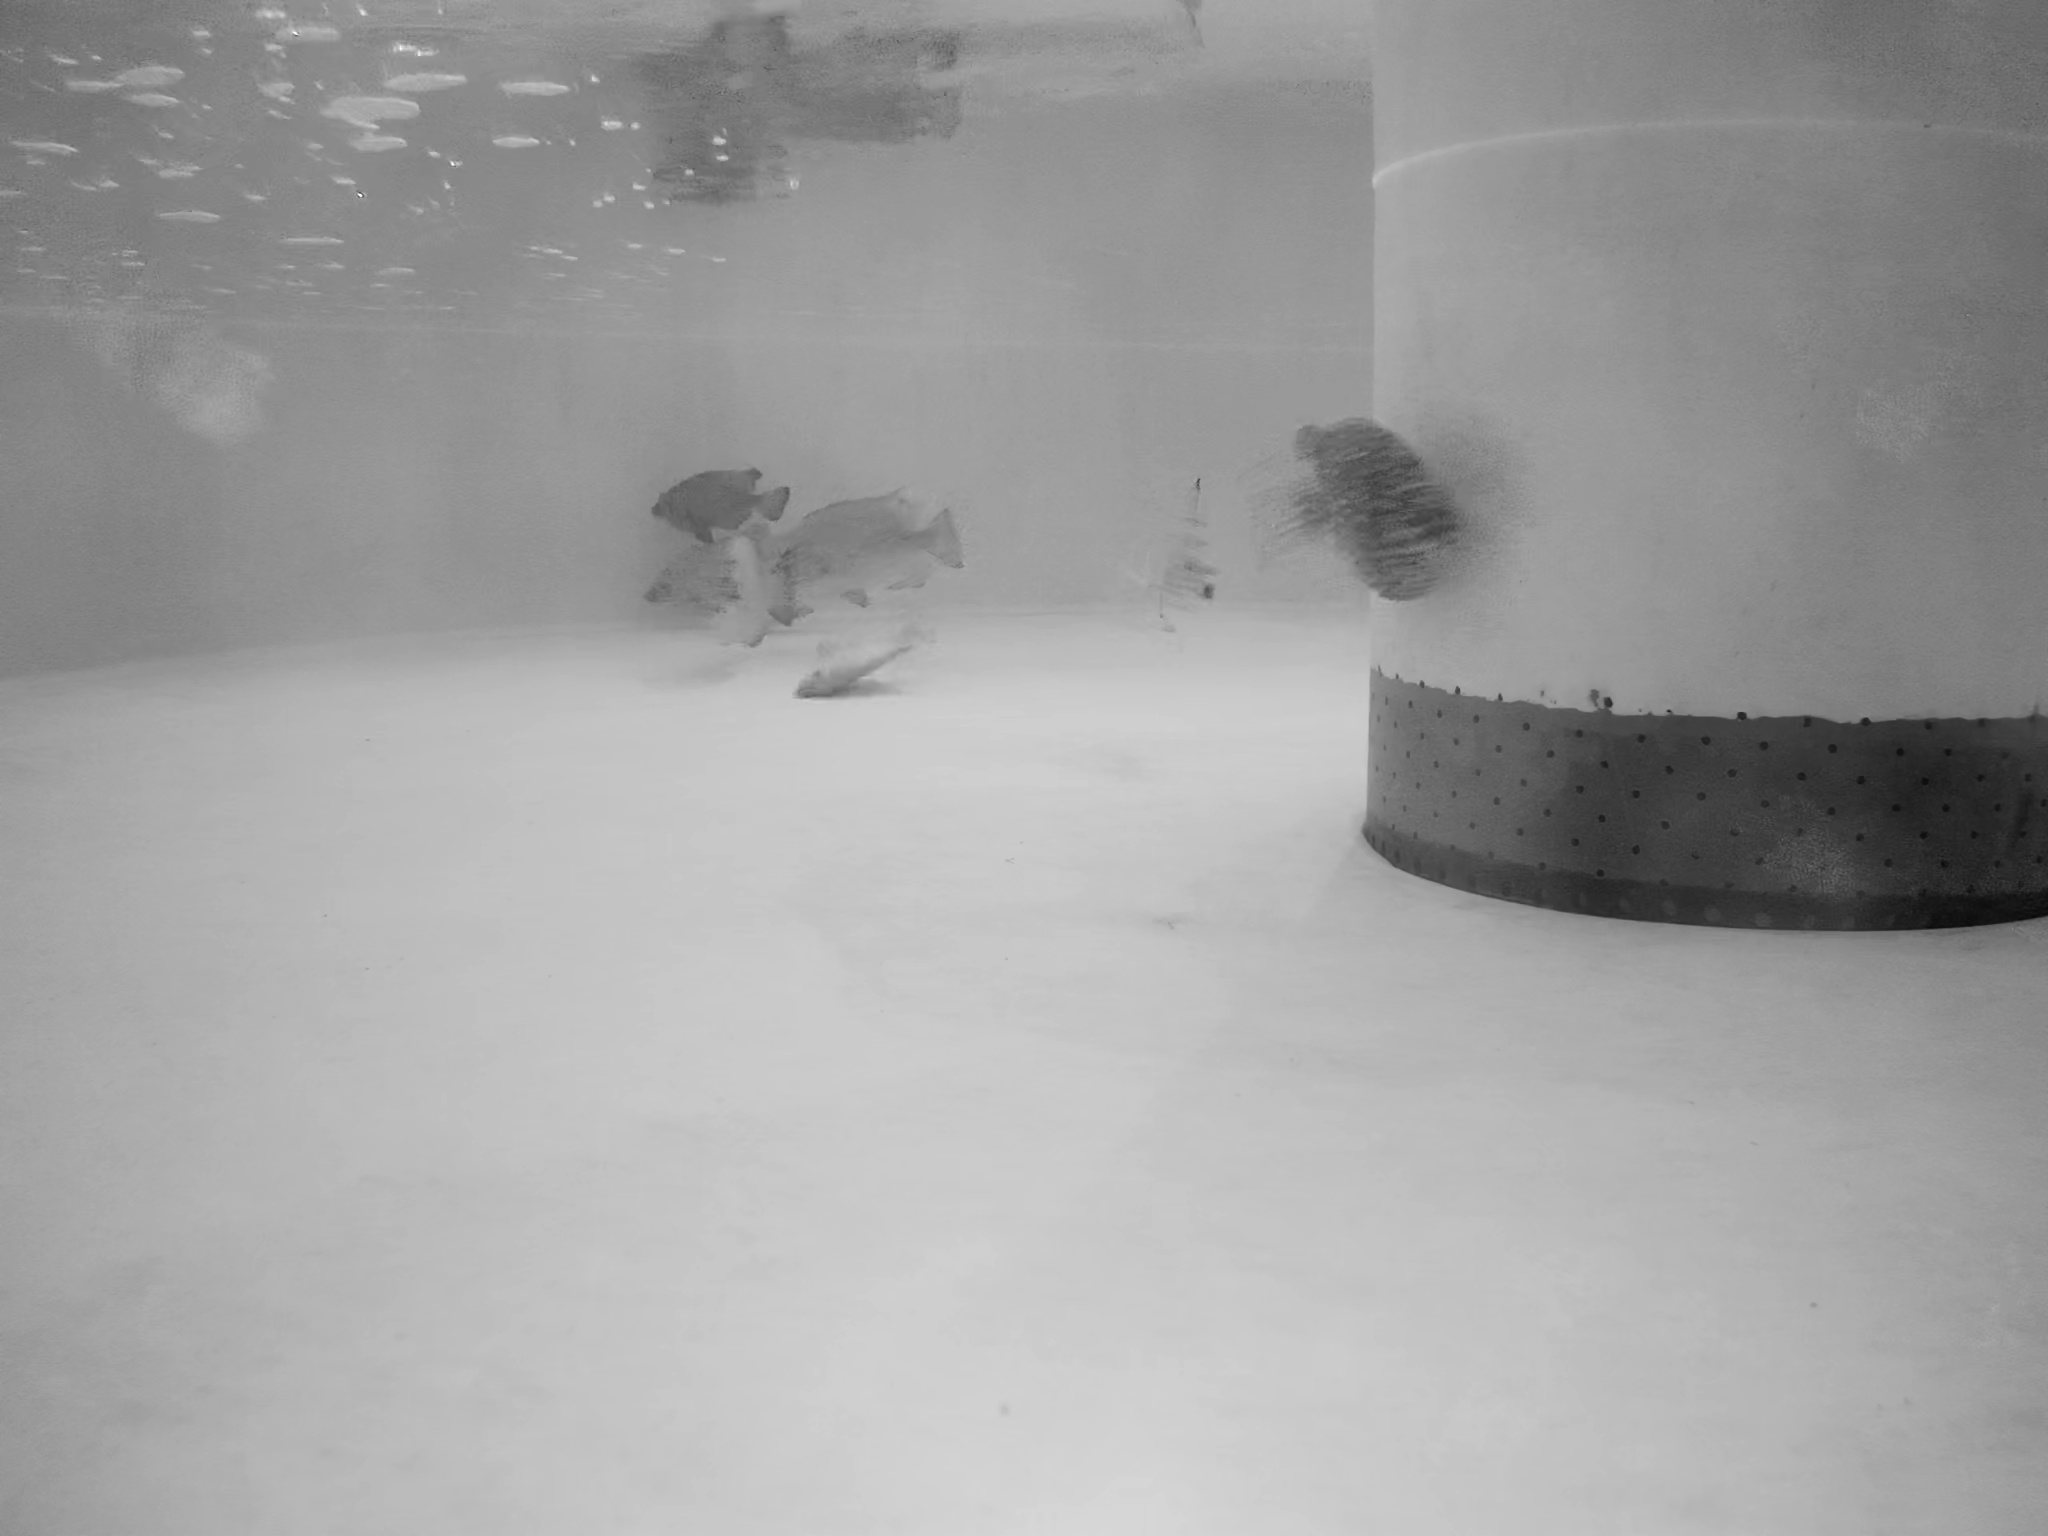fish: (1234, 411, 1474, 602), (755, 479, 974, 610), (1132, 453, 1229, 629), (650, 531, 795, 629), (784, 620, 940, 692), (642, 471, 803, 539)
